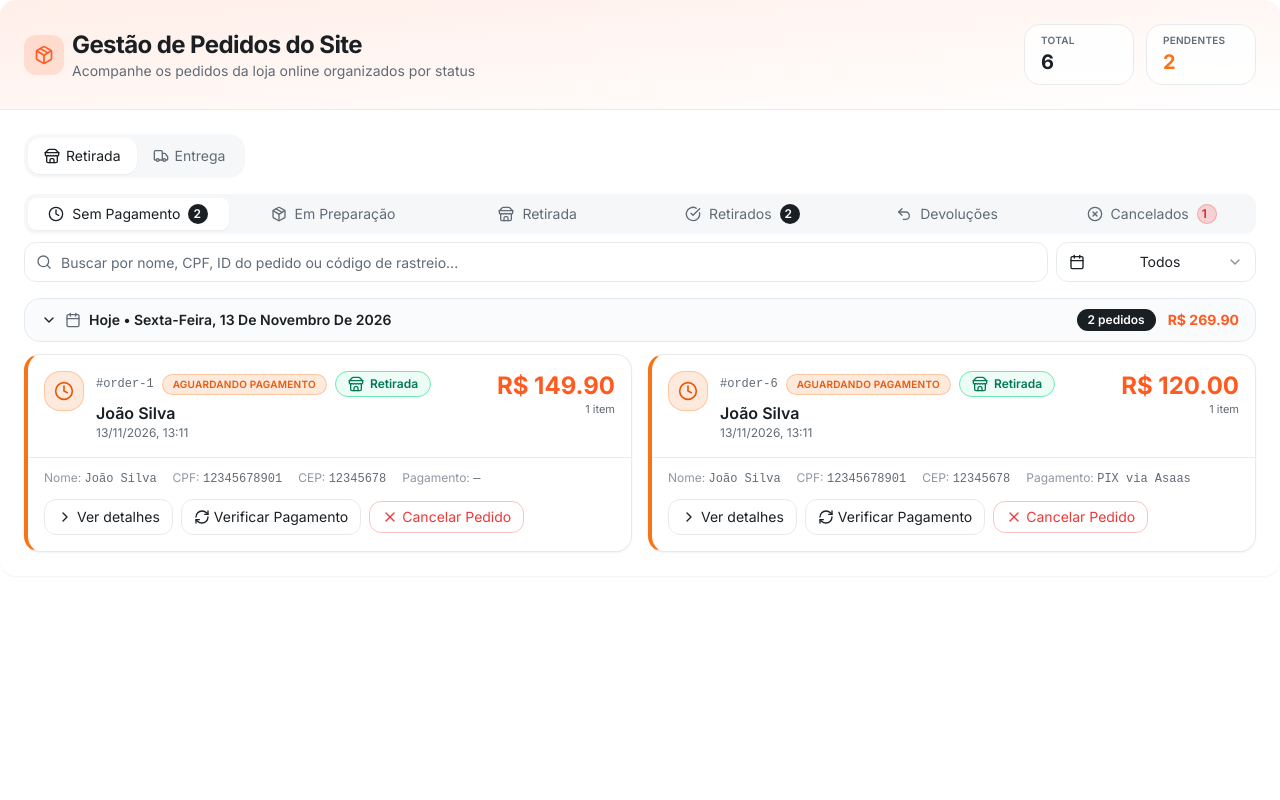
Test case: OrdersManagement — fluxo de cancelamento e estorno › pedido totalmente reembolsado mostra link para comprovante em vez de botão de estorno
Expected: the heading "Gestão de Pedidos do Site" is shown, [72,30,362,59]
Click the tab "Cancelados 1". click: click(1152, 214)
box: [1051,198,1252,230]
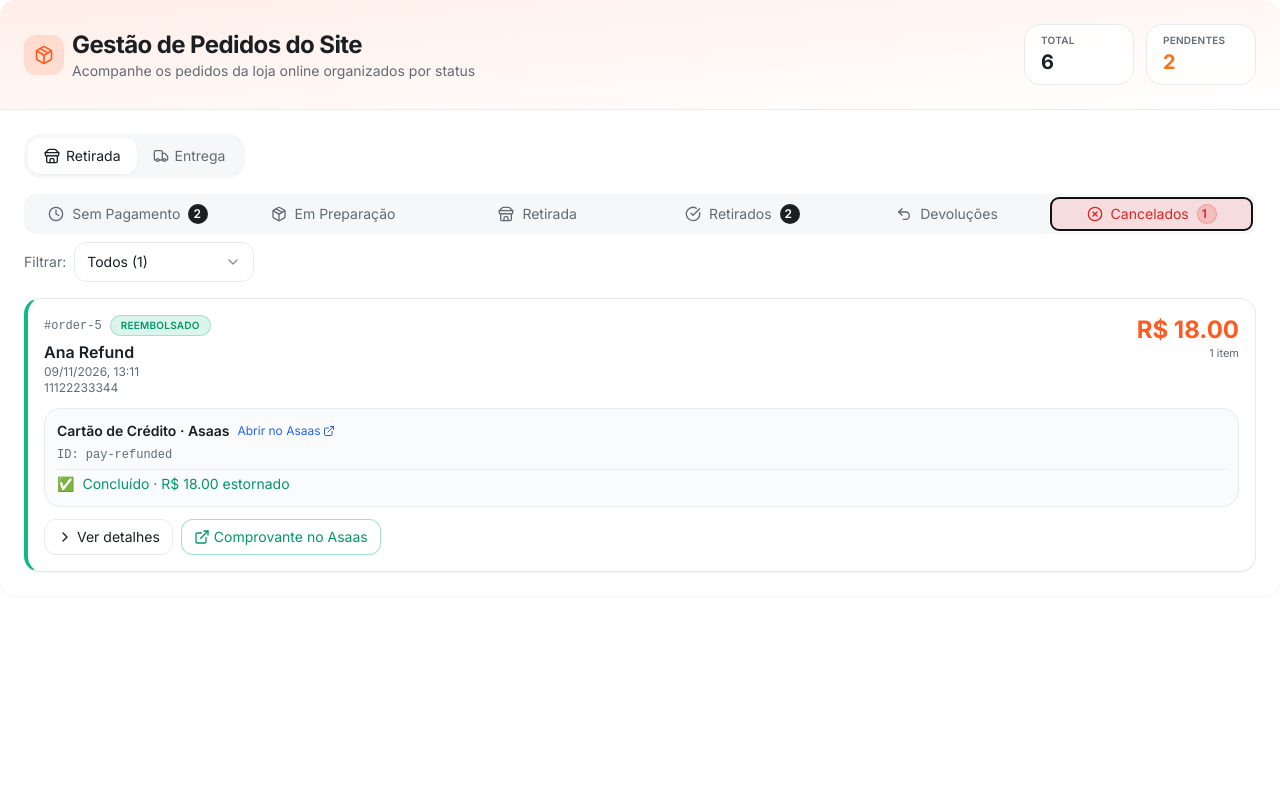
Expected: the link "Comprovante no Asaas" is shown, [181,519,381,555]
